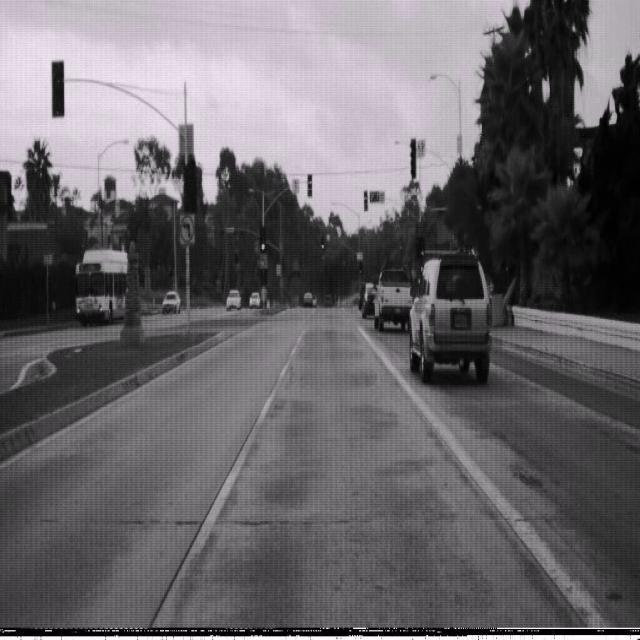noLeftTurn: (178, 212, 195, 245)
